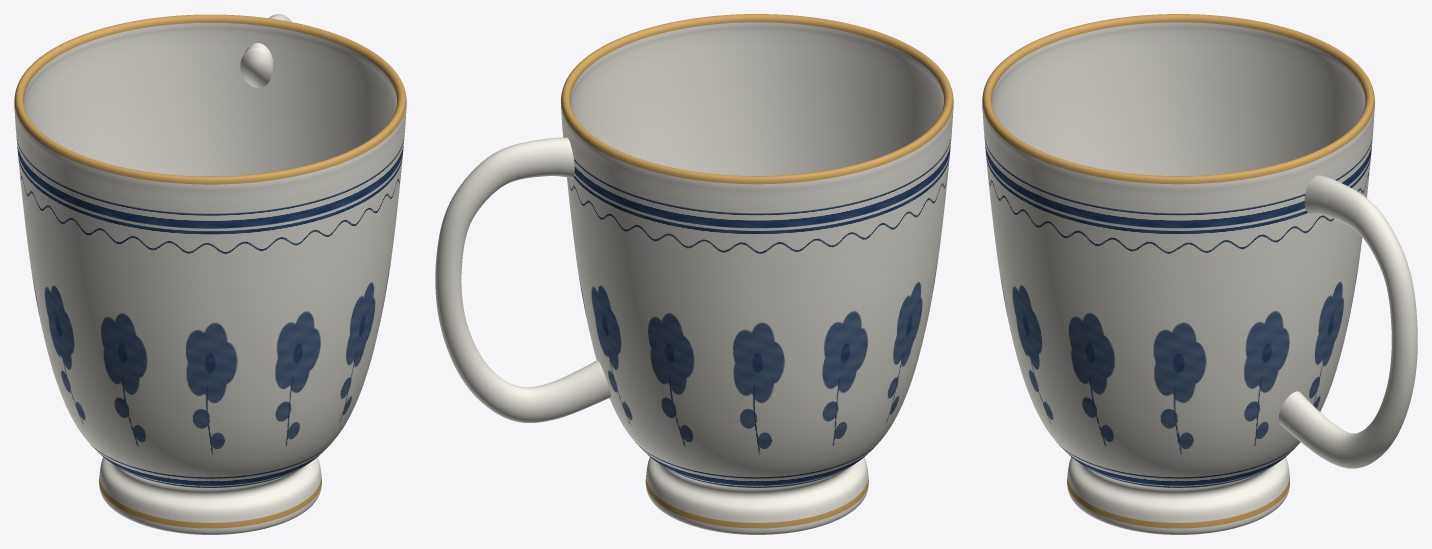
File: teacup.gltf
The picture shows the model from 3 angles, left to right: view 1: azimuth 30°, elevation 25°; view 2: azimuth 150°, elevation 25°; view 3: azimuth 270°, elevation 25°; orthographic projection.
Visible parts, largest first — view 1: teacup; view 2: teacup; view 3: teacup.
Part boxes in pixels (x1,y1,x2,y2): teacup: [14, 14, 406, 534]; teacup: [435, 14, 953, 534]; teacup: [982, 14, 1417, 534].
Bounding box in the file's own units: 100 × 100 × 100.
Materials: 2 (1 with a texture image).
